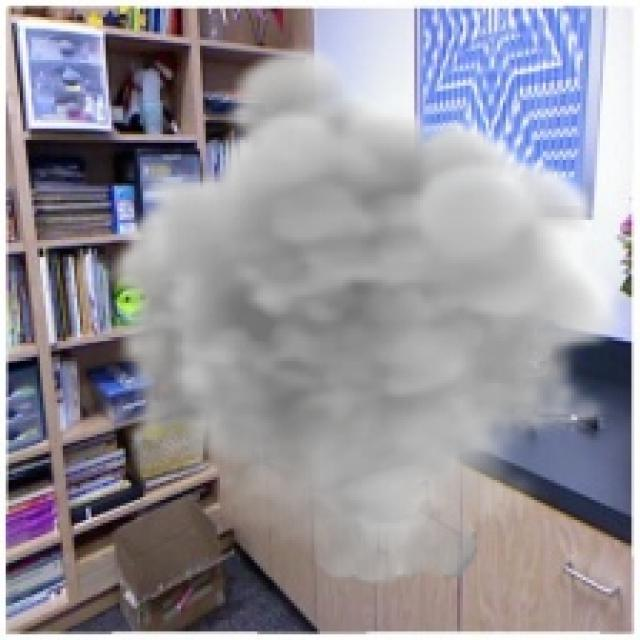smoke: (105, 40, 626, 589)
